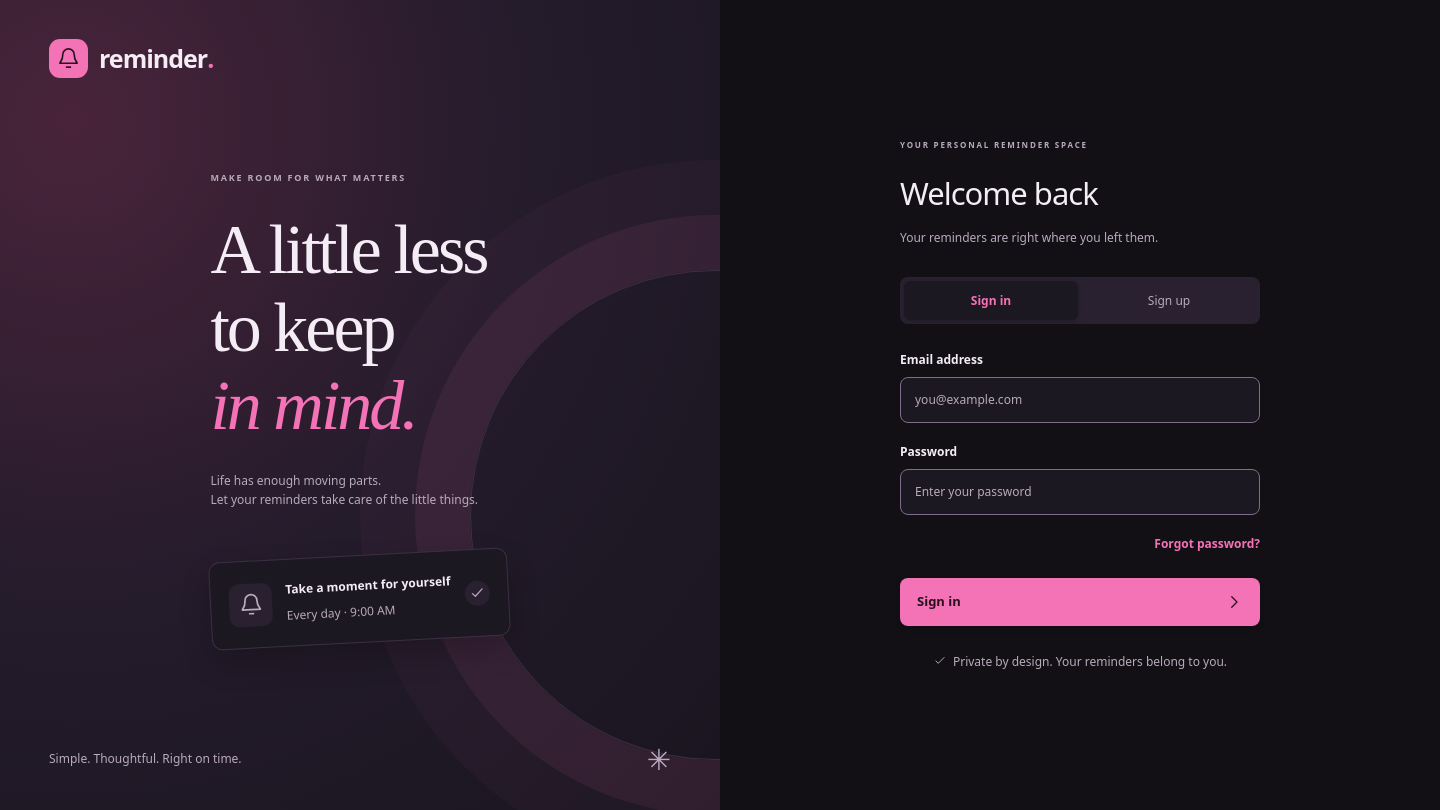
Scenario: authentication flows › sends a reset link without exposing whether an account exists
Click the button "Forgot password?" at (1207, 543), box [1154,528,1260,558]
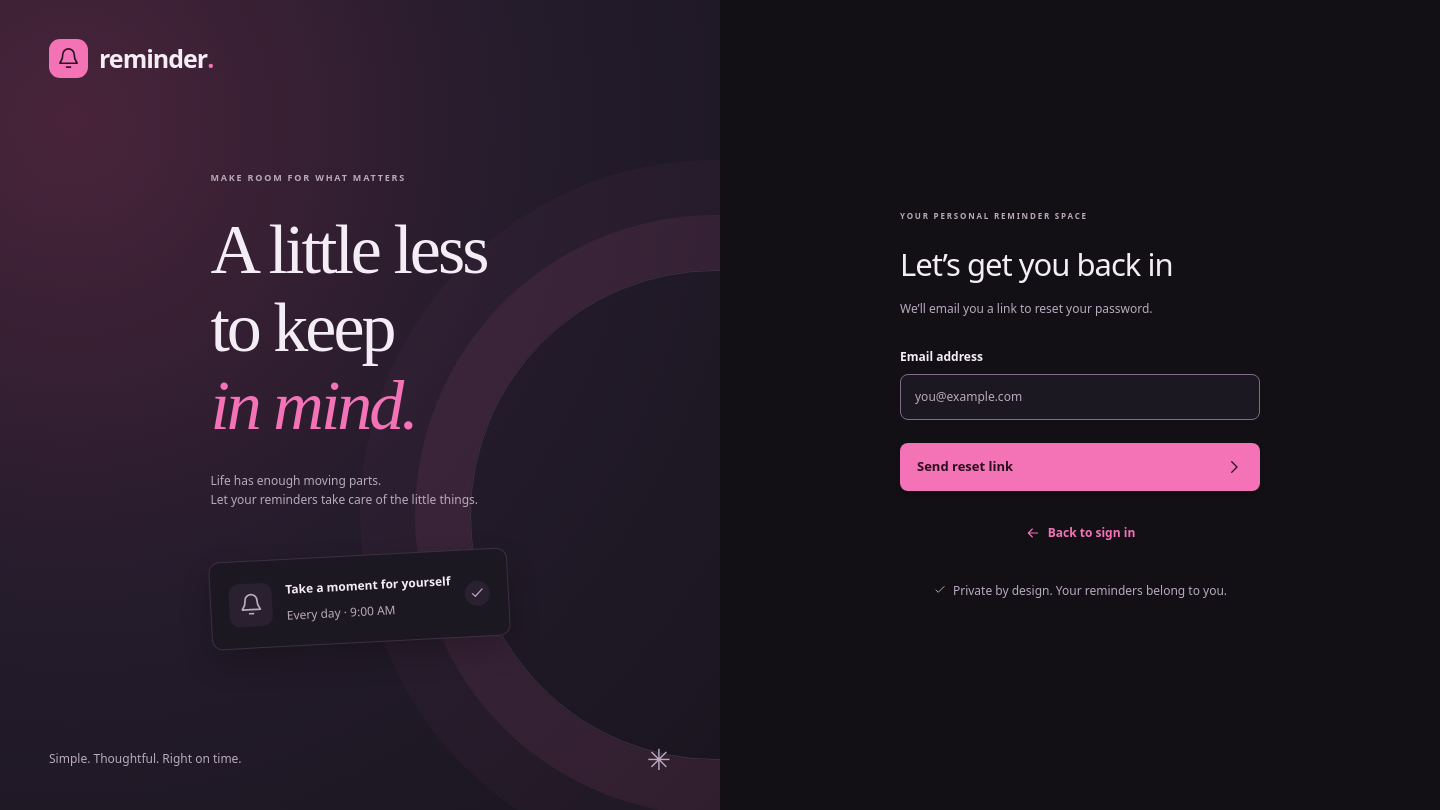
Type "alice@example.com" into the field labelled "Email address" at (1080, 397), box [900,374,1260,420]
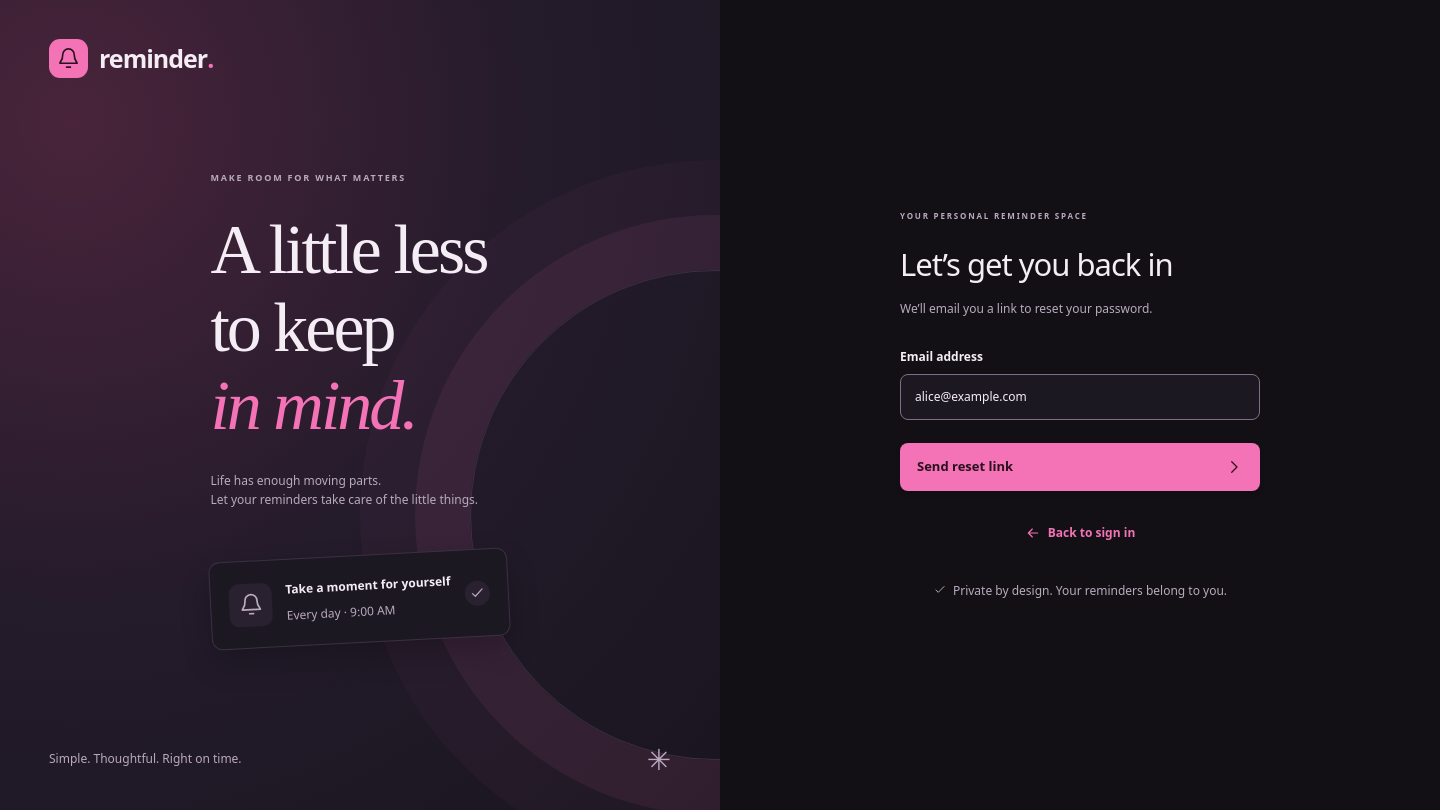
Click the button "Send reset link" at (965, 466), box [900,443,1260,491]
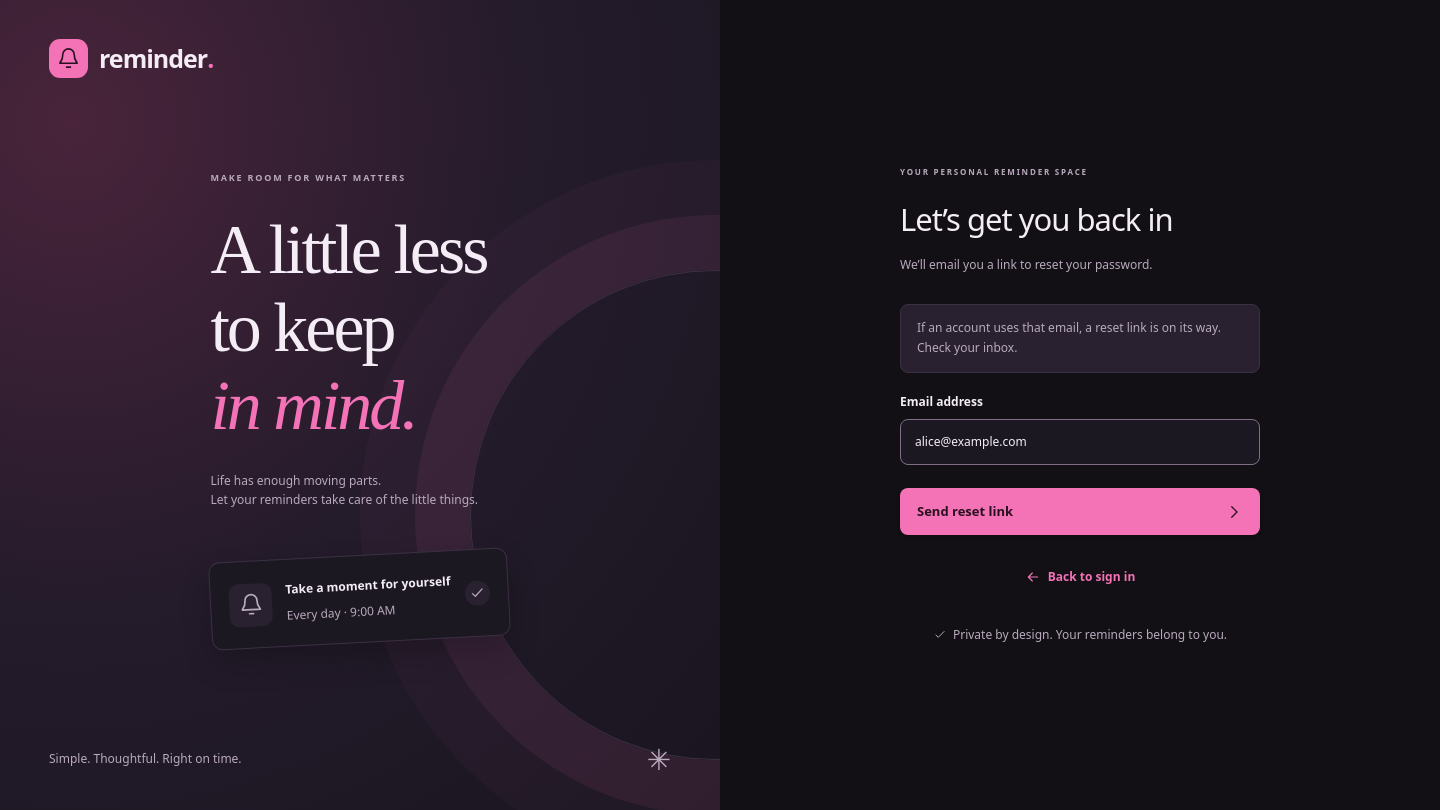
Expected: the message reads "If an account uses that email, a reset link is on its way. Check your inbox.", [917,319,1221,356]
